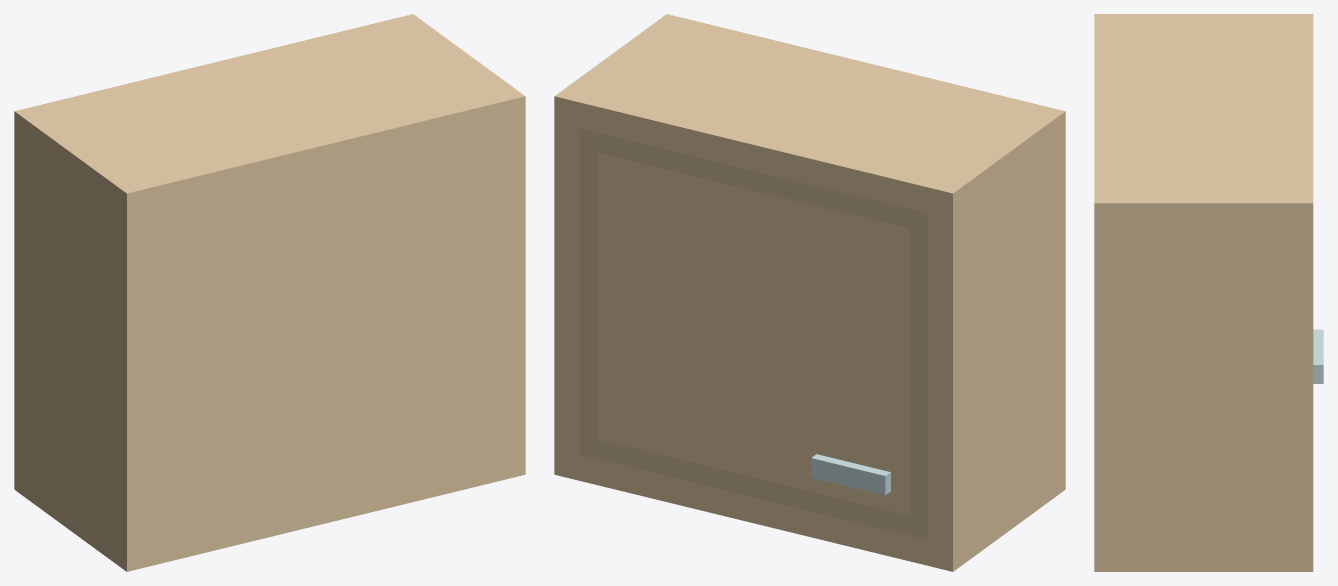
The model's file is kitchenCabinetUpper.glb.
The picture shows the model from 3 angles, left to right: view 1: azimuth 30°, elevation 25°; view 2: azimuth 150°, elevation 25°; view 3: azimuth 270°, elevation 25°; orthographic projection. The views are drawn at different scales.
Visible parts, largest first — view 1: kitchenCabinetUpper; view 2: kitchenCabinetUpper; view 3: kitchenCabinetUpper.
Boxes of the visible parts, x1=… form: kitchenCabinetUpper: x1=14, y1=14, x2=525, y2=571; kitchenCabinetUpper: x1=554, y1=14, x2=1065, y2=571; kitchenCabinetUpper: x1=1094, y1=14, x2=1323, y2=571.
Size of the model in its own units: 4.3 by 3.9 by 2.2.
